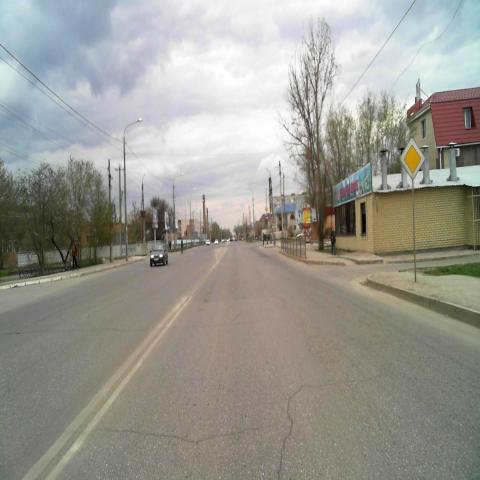2_1: (400, 136, 426, 180)
